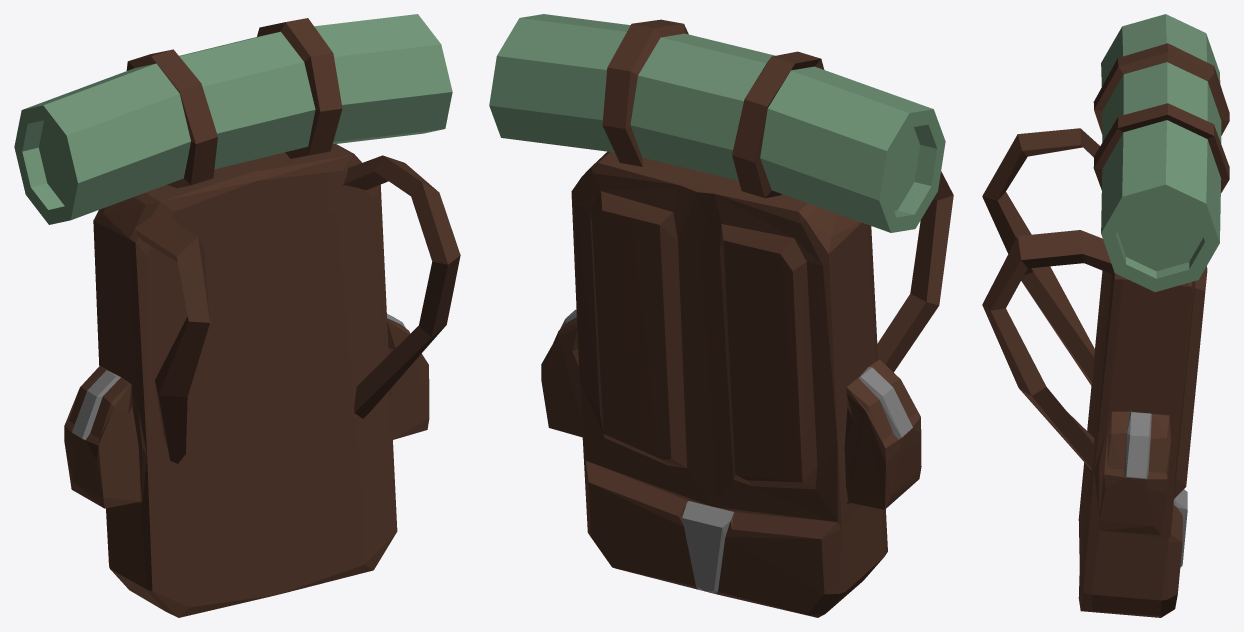
Rendered from TouristGuy_BackPack.fbx.
3 renders of one model, left to right at view 1: azimuth 30°, elevation 25°; view 2: azimuth 150°, elevation 25°; view 3: azimuth 270°, elevation 25°, orthographic. The views are drawn at different scales.
Parts seen in each view (by area): view 1: TouristGuy_BackPack; view 2: TouristGuy_BackPack; view 3: TouristGuy_BackPack.
Boxes of the visible parts, x1,y1,x2,y2 form: TouristGuy_BackPack: [14, 14, 460, 617]; TouristGuy_BackPack: [489, 14, 953, 617]; TouristGuy_BackPack: [982, 14, 1229, 617].
Size of the model in its own units: 52.2 by 70.92 by 32.03.
